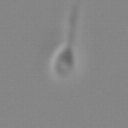normal: (58, 1, 91, 44)
